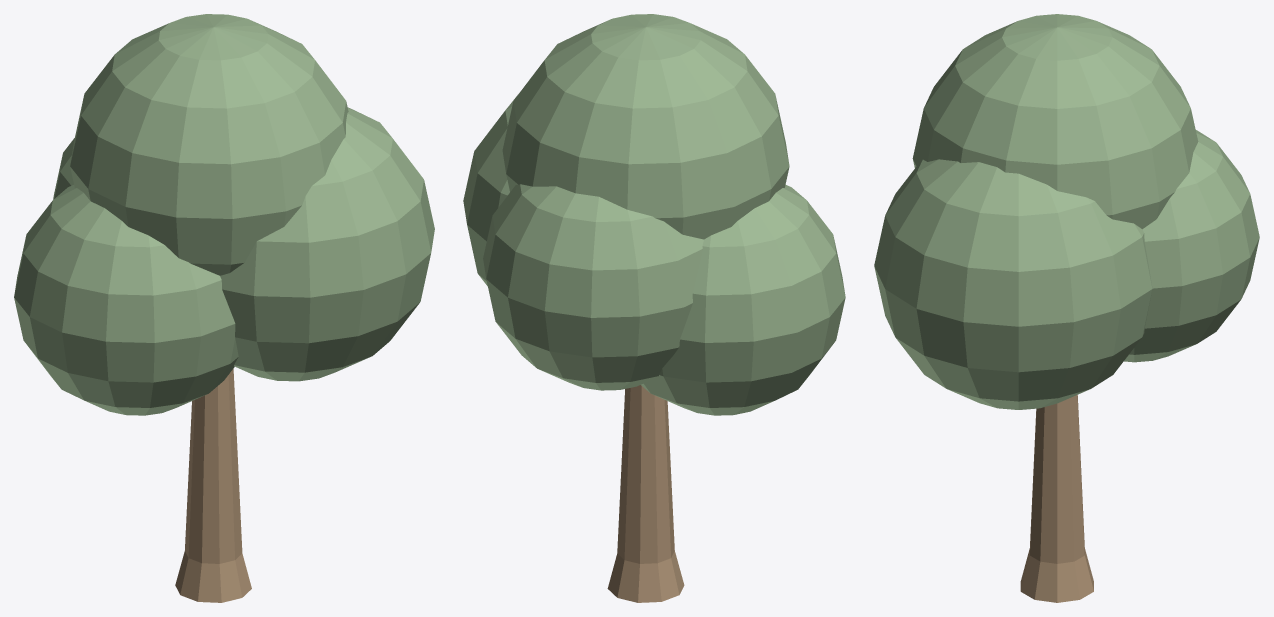
The model's file is shade_tree.glb.
3 views of the same model, side by side, from view 1: azimuth 30°, elevation 25°; view 2: azimuth 150°, elevation 25°; view 3: azimuth 270°, elevation 25° (orthographic).
Visible parts, largest first — view 1: shade_tree; view 2: shade_tree; view 3: shade_tree.
Part boxes in pixels (left/top/right/bottom): shade_tree: left=14, top=14, right=434, bottom=602; shade_tree: left=463, top=14, right=845, bottom=602; shade_tree: left=874, top=14, right=1259, bottom=602.
Bounding box in the file's own units: 2.2 × 3.2 × 2.
